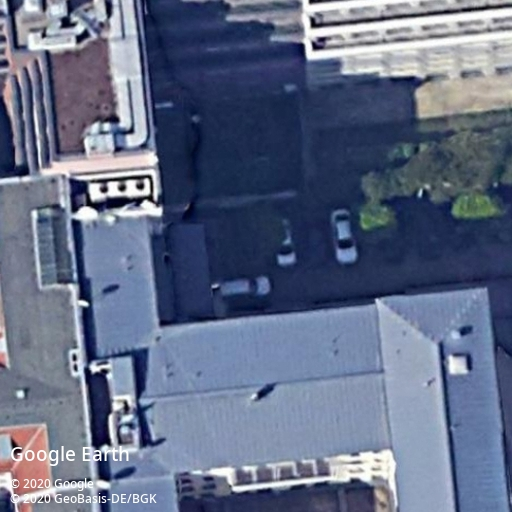Chiller: (86, 174, 154, 204)
